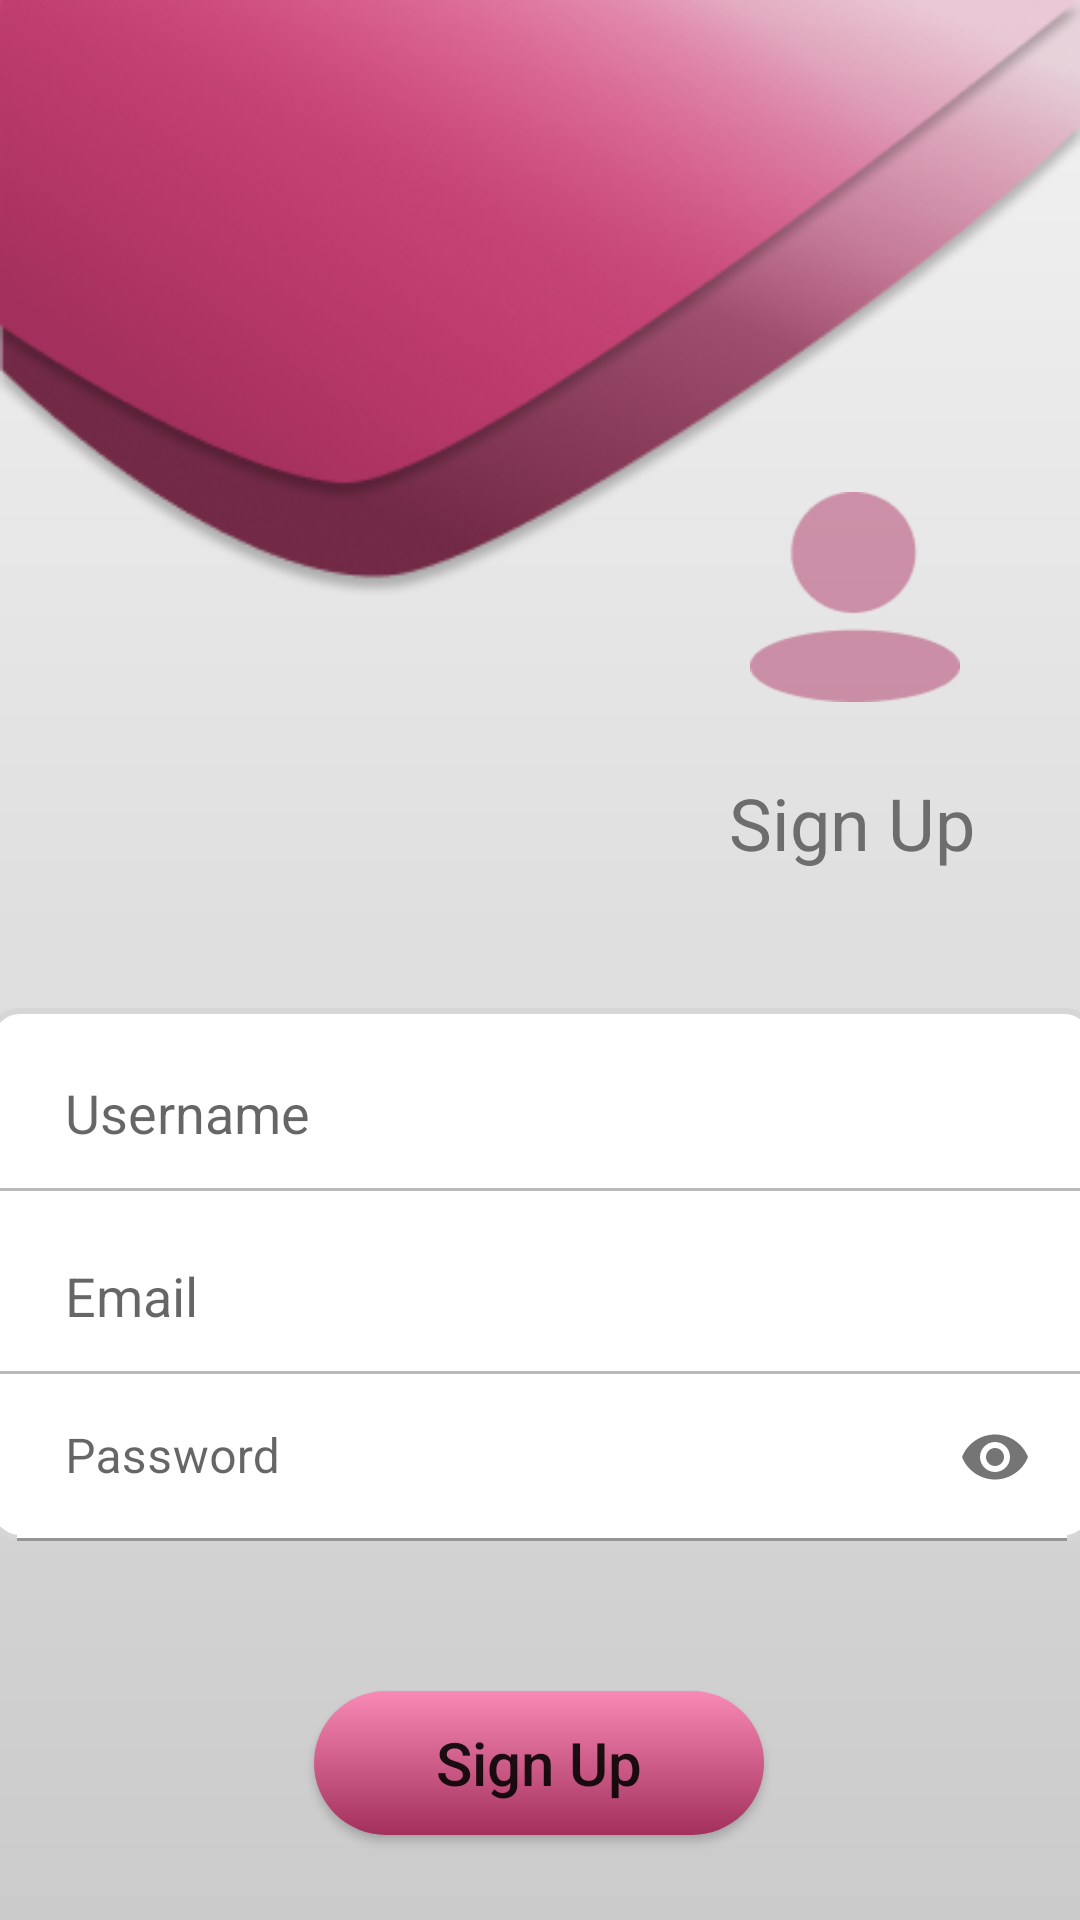

Screen size 1080 x 1920. Icon name, then its center in pixels as (x,y):
user login: (855,597)
